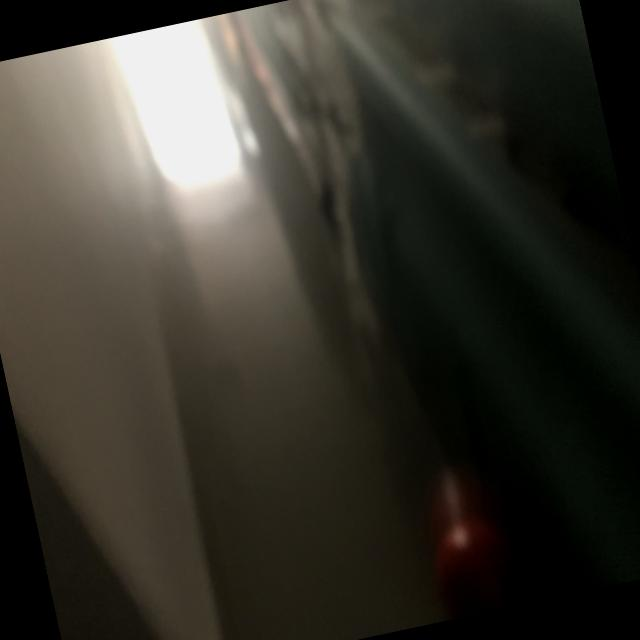red_ball: (431, 512, 525, 619)
